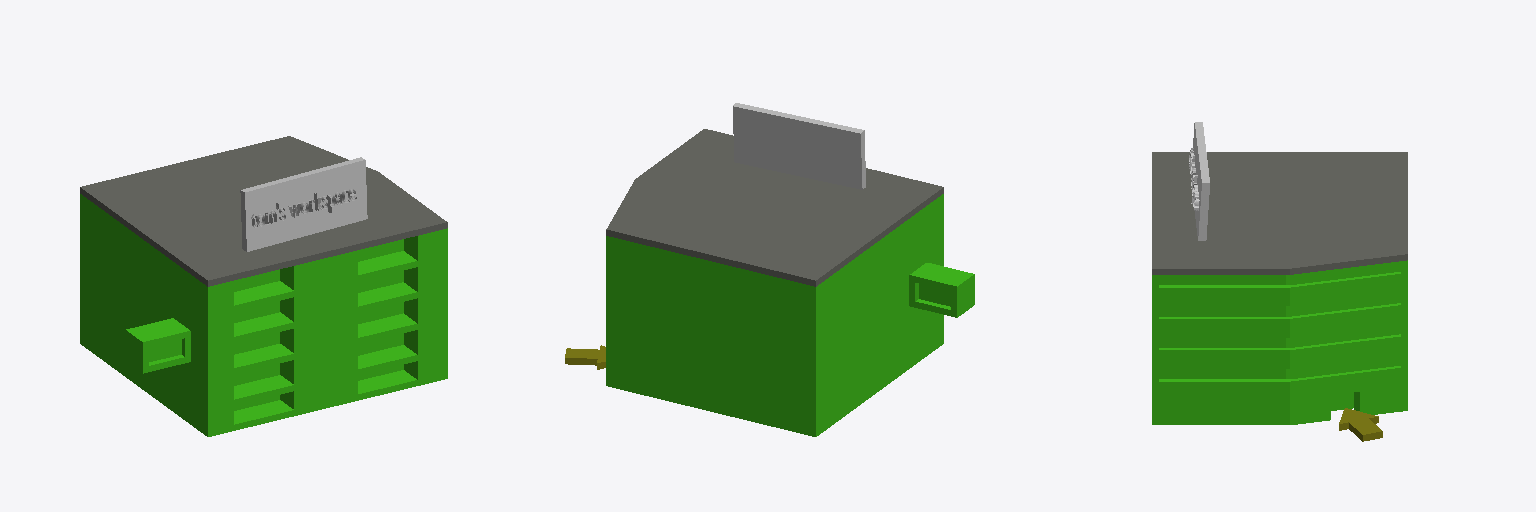
The picture shows the model from 3 angles: view 1: azimuth 30°, elevation 25°; view 2: azimuth 150°, elevation 25°; view 3: azimuth 270°, elevation 25°; orthographic projection.
Visible parts, largest first — view 1: lll2.002, Cube.003_Cube.004, text.003_Text.003; view 2: lll2.002, Cube.003_Cube.004; view 3: lll2.002, Cube.003_Cube.004.
Boxes of the visible parts, box(x1,y1,x2,y2) form: lll2.002: box(80, 136, 447, 436); Cube.003_Cube.004: box(240, 157, 367, 251); text.003_Text.003: box(251, 189, 356, 227); lll2.002: box(565, 129, 974, 436); Cube.003_Cube.004: box(733, 103, 865, 189); lll2.002: box(1152, 152, 1407, 441); Cube.003_Cube.004: box(1191, 122, 1209, 240).
Size of the model in its own units: 53.4 by 34.38 by 37.